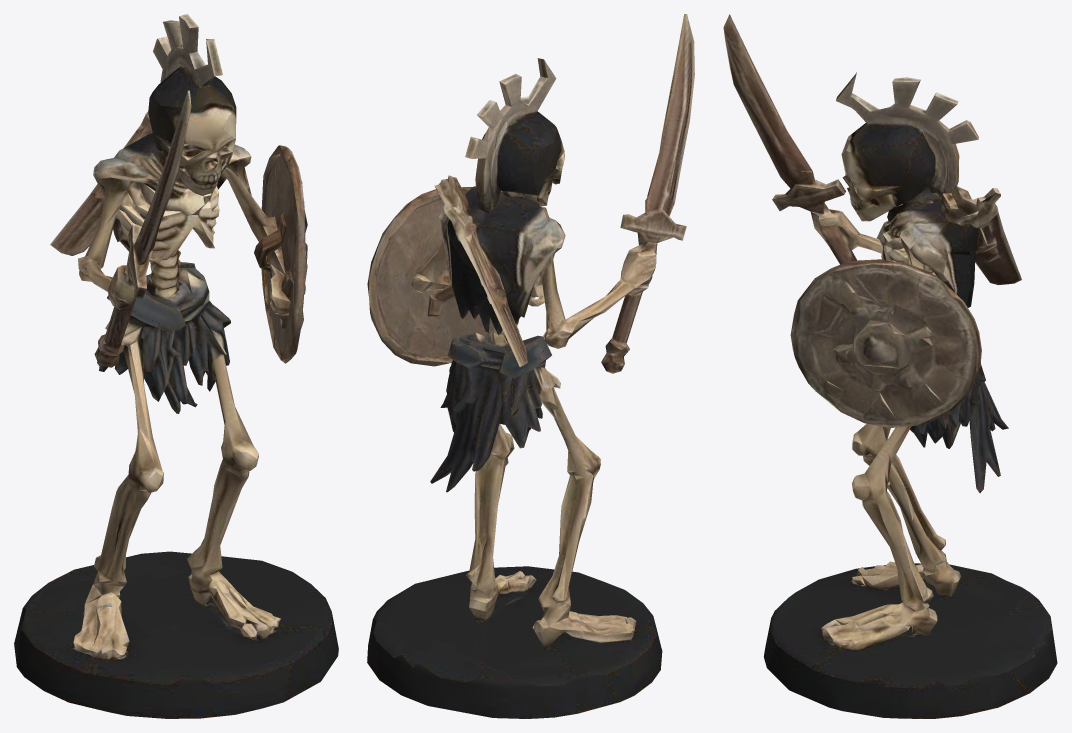
Rendered from mob_hollow.glb.
3 views of the same model, side by side, from view 1: azimuth 30°, elevation 25°; view 2: azimuth 150°, elevation 25°; view 3: azimuth 270°, elevation 25° (orthographic). The views are drawn at different scales.
Size of the model in its own units: 0.8607 by 1.9 by 0.9541.
Materials: 1 (1 with a texture image).
